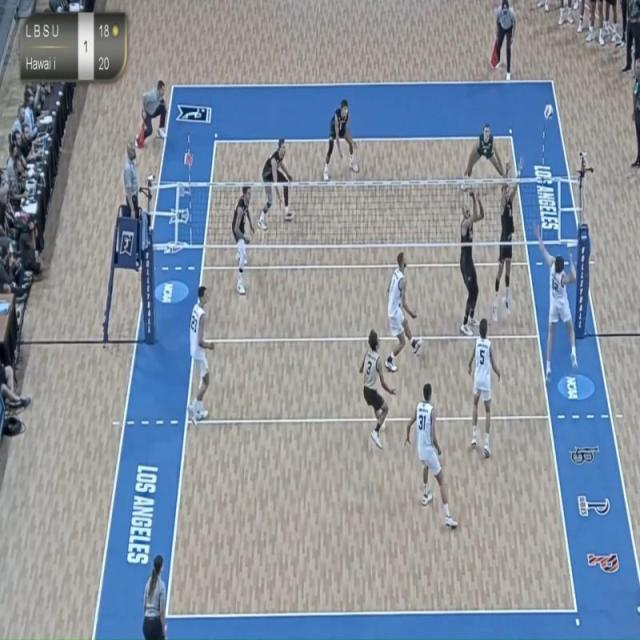volleyball: (542, 99, 556, 125)
